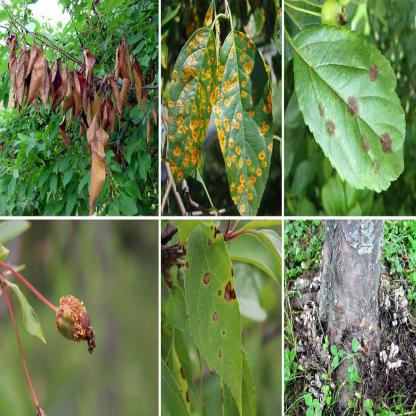Apple rust leaf: (162, 3, 281, 214)
